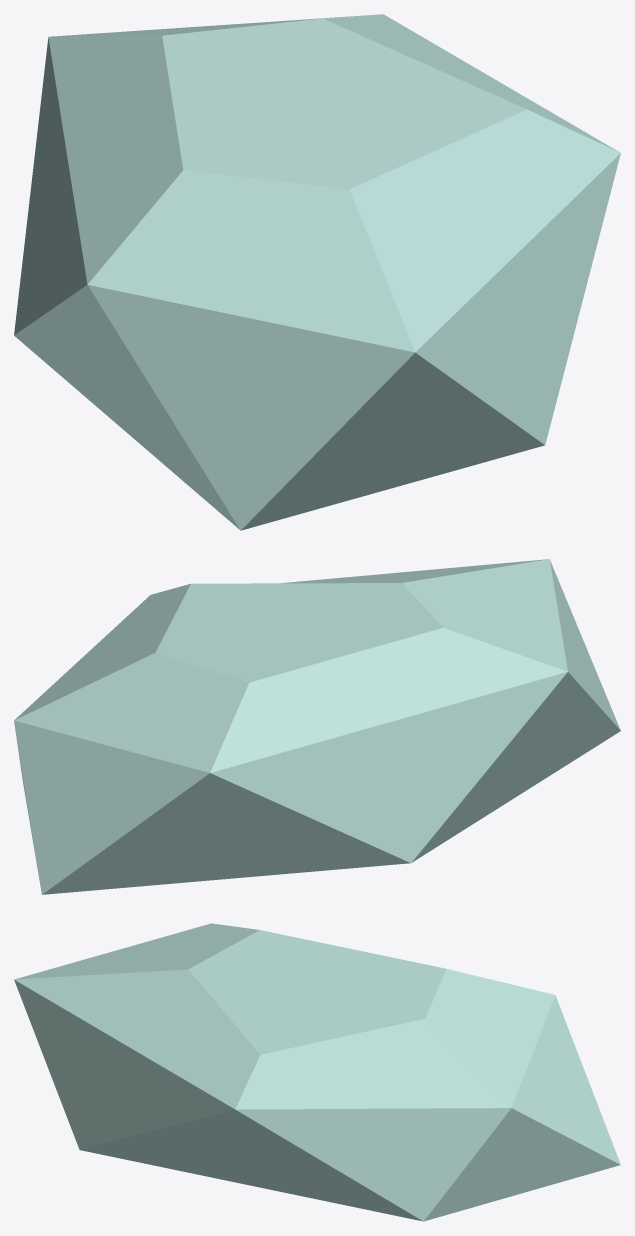
Rendered from SM_Rock_03.fbx.
3 renders of one model, top to bottom at view 1: azimuth 30°, elevation 25°; view 2: azimuth 150°, elevation 25°; view 3: azimuth 270°, elevation 25°, orthographic. The views are drawn at different scales.
Visible parts, largest first — view 1: Icosphere.021; view 2: Icosphere.021; view 3: Icosphere.021.
Boxes of the visible parts, x1=… form: Icosphere.021: x1=14, y1=14, x2=620, y2=530; Icosphere.021: x1=14, y1=559, x2=620, y2=894; Icosphere.021: x1=14, y1=923, x2=620, y2=1221.
Bounding box in the file's own units: 53.91 × 29.7 × 74.75.
